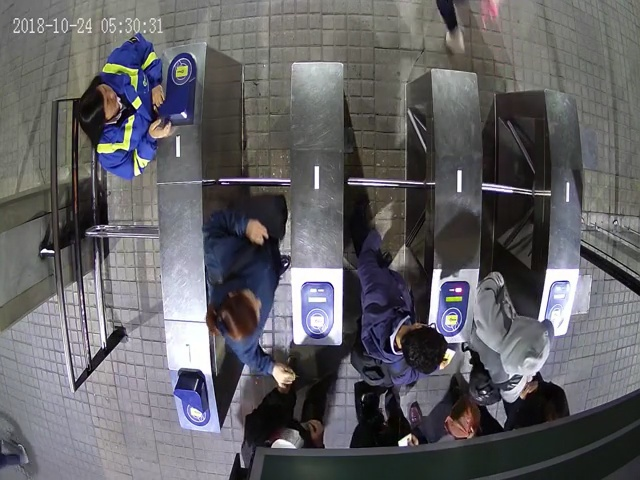Chaleco_azul: (78, 34, 172, 180)
